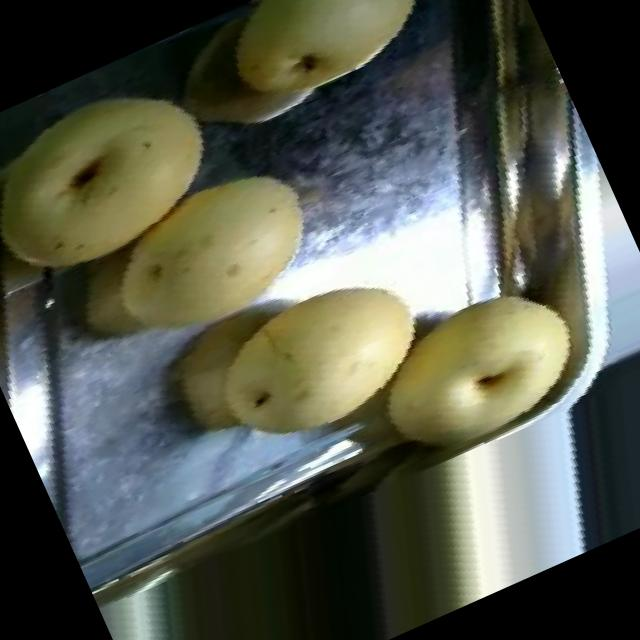Fruit: (15, 112, 365, 414), (132, 237, 462, 508), (0, 36, 267, 331), (333, 242, 614, 480), (185, 0, 462, 132)
